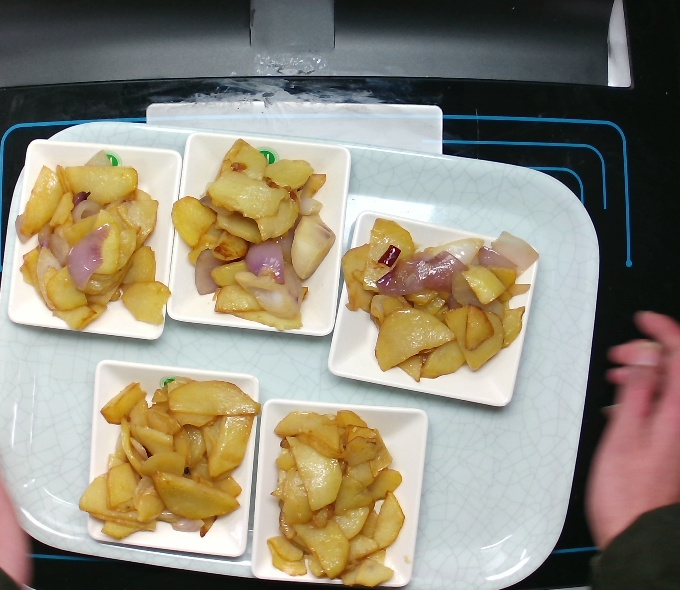wcq-TuDouPian: (341, 207, 547, 386), (167, 137, 342, 332), (258, 411, 438, 589), (72, 376, 261, 540), (11, 154, 172, 328)
